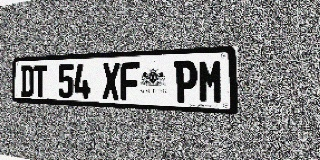4: (74, 64, 90, 99)
5: (59, 64, 73, 98)
D: (21, 65, 33, 97)
F: (121, 62, 140, 101)
M: (198, 59, 223, 104)
P: (174, 60, 197, 103)
T: (34, 65, 47, 97)
X: (102, 63, 120, 100)
